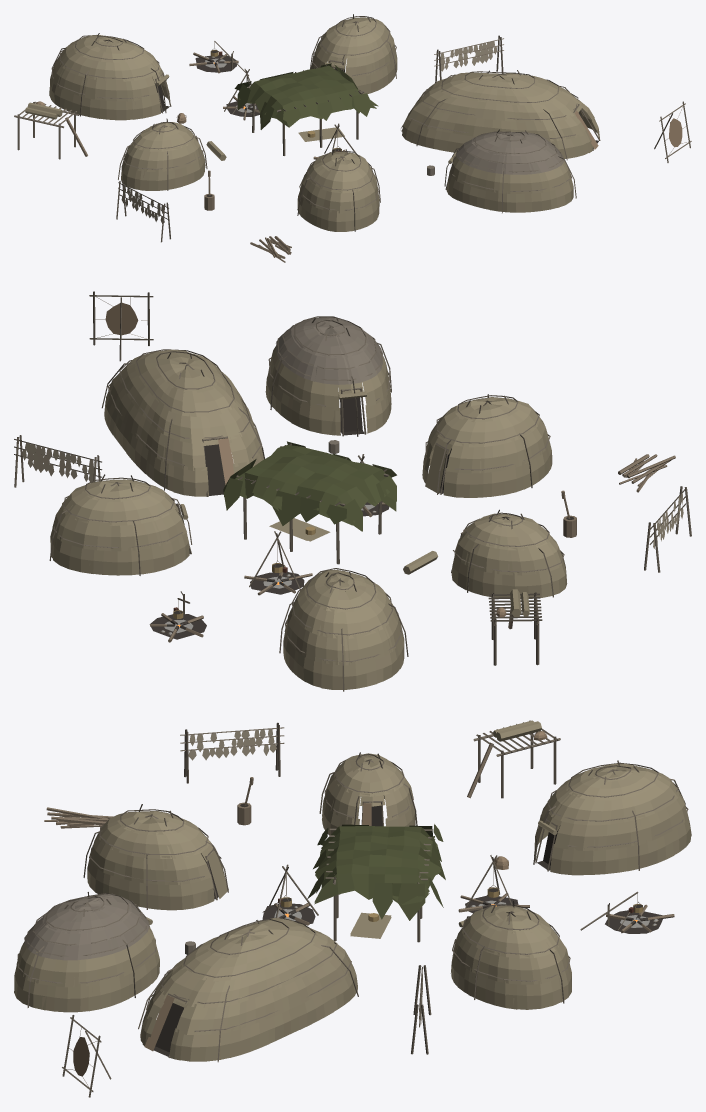
Rendered from potawatomi_camp_1812_south_bend__camp_1812.glb.
The picture shows the model from 3 angles, top to bottom: view 1: azimuth 30°, elevation 25°; view 2: azimuth 150°, elevation 25°; view 3: azimuth 270°, elevation 25°; orthographic projection. The views are drawn at different scales.
Visible parts, largest first — view 1: potawatomi_camp_1812_south_bend__camp_1812; view 2: potawatomi_camp_1812_south_bend__camp_1812; view 3: potawatomi_camp_1812_south_bend__camp_1812.
Boxes of the visible parts, x1,y1,x2,y2 form: potawatomi_camp_1812_south_bend__camp_1812: (14, 14, 691, 262); potawatomi_camp_1812_south_bend__camp_1812: (14, 291, 691, 691); potawatomi_camp_1812_south_bend__camp_1812: (14, 720, 691, 1097).
Size of the model in its own units: 25.35 by 3.08 by 21.86.
